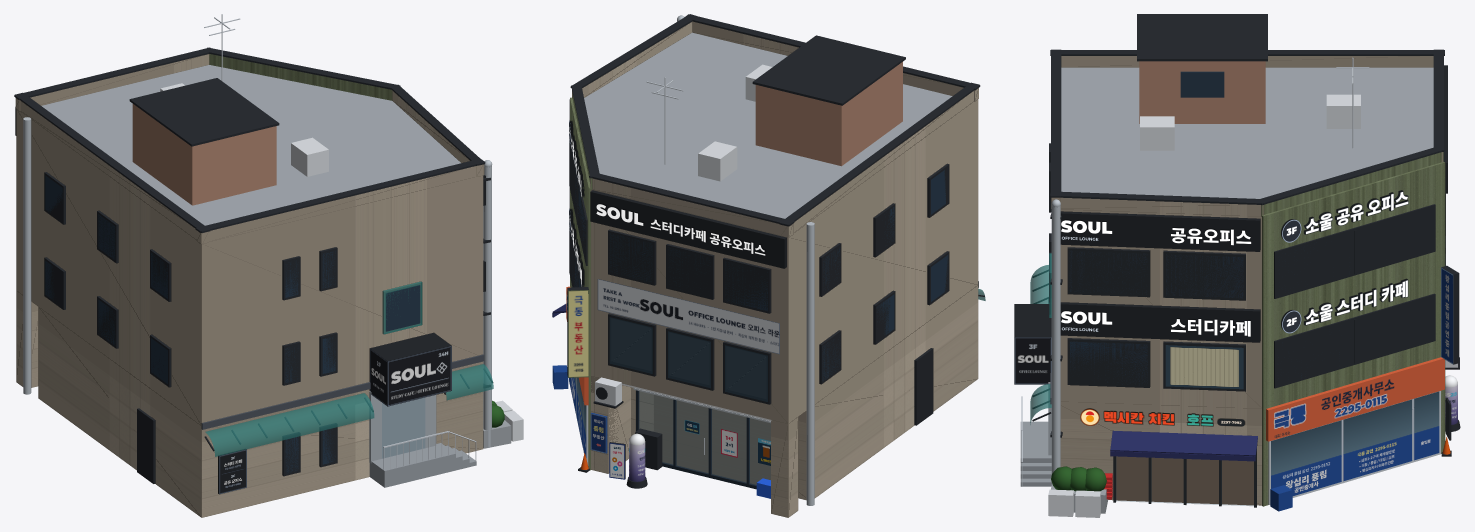
The model's file is place_gs25극미점.glb.
3 views of the same model, side by side, from view 1: azimuth 30°, elevation 25°; view 2: azimuth 150°, elevation 25°; view 3: azimuth 270°, elevation 25° (orthographic). The views are drawn at different scales.
Visible parts, largest first — view 1: MainMass_2F_3F_BeigeStone, MainMass_1F_RecessedNorthPorch, Roof_Stair_Penthouse, Merged_Roof_Parapet_Beige, Merged_Roof_Coping, Merged_Roof_PentTrim, South_TealPoly_Canopy (×2), South_SOUL_3DProjectingBoxSign, Merged_South_SlitFrames, Merged_West_Frames, Merged_South_BrushedSteel, Merged_South_SlitGlass (+12 smaller); view 2: MainMass_2F_3F_BeigeStone, MainMass_1F_RecessedNorthPorch, Roof_Stair_Penthouse, Merged_North_WinFrames, Merged_Roof_Parapet_Beige, GS25_Storefront_Local, Facade_North_Upper2F3F, Merged_Roof_Coping, Merged_Roof_PentTrim, North_2F_SoulBanner, Merged_North_3F_SignBand, Merged_West_Frames (+17 smaller); view 3: MainMass_2F_3F_BeigeStone, NE_OliveMoss_FacadeCladding, Merged_NE_UpperFrames, Merged_East_WinFrames, Merged_East_SoulBands, Facade_NE_Geukdong_Olive, Facade_East_MexicanChicken, MainMass_1F_RecessedNorthPorch, Merged_Roof_Coping, Roof_Stair_Penthouse, Merged_Roof_PentTrim, NE_1F_Geukdong_OrangeFascia (+21 smaller).
Boxes of the visible parts, left/top/right/bottom form: MainMass_2F_3F_BeigeStone: left=16, top=65, right=483, bottom=425; MainMass_1F_RecessedNorthPorch: left=38, top=307, right=483, bottom=517; Roof_Stair_Penthouse: left=132, top=104, right=276, bottom=205; Merged_Roof_Parapet_Beige: left=15, top=54, right=484, bottom=243; Merged_Roof_Coping: left=14, top=47, right=485, bottom=232; Merged_Roof_PentTrim: left=129, top=78, right=279, bottom=146; South_TealPoly_Canopy (×2): left=205, top=364, right=493, bottom=456; South_SOUL_3DProjectingBoxSign: left=369, top=332, right=451, bottom=406; Merged_South_SlitFrames: left=282, top=247, right=337, bottom=476; Merged_West_Frames: left=44, top=172, right=171, bottom=387; Merged_South_BrushedSteel: left=369, top=391, right=436, bottom=463; Merged_South_SlitGlass: left=285, top=251, right=420, bottom=473; MainMass_2F_3F_BeigeStone: left=584, top=32, right=978, bottom=423; MainMass_1F_RecessedNorthPorch: left=591, top=285, right=978, bottom=500; Roof_Stair_Penthouse: left=755, top=62, right=902, bottom=166; Merged_North_WinFrames: left=608, top=229, right=771, bottom=404; Merged_Roof_Parapet_Beige: left=572, top=21, right=978, bottom=237; GS25_Storefront_Local: left=639, top=391, right=770, bottom=485; Facade_North_Upper2F3F: left=598, top=203, right=767, bottom=401; Merged_Roof_Coping: left=570, top=14, right=980, bottom=226; Merged_Roof_PentTrim: left=752, top=35, right=905, bottom=105; North_2F_SoulBanner: left=597, top=279, right=779, bottom=354; Merged_North_3F_SignBand: left=590, top=190, right=786, bottom=268; Merged_West_Frames: left=819, top=164, right=949, bottom=384; MainMass_2F_3F_BeigeStone: left=1060, top=67, right=1433, bottom=408; NE_OliveMoss_FacadeCladding: left=1262, top=161, right=1445, bottom=506; Merged_NE_UpperFrames: left=1274, top=204, right=1435, bottom=388; Merged_East_WinFrames: left=1067, top=247, right=1245, bottom=391; Merged_East_SoulBands: left=1060, top=211, right=1260, bottom=342; Facade_NE_Geukdong_Olive: left=1271, top=190, right=1439, bottom=495; Facade_East_MexicanChicken: left=1061, top=219, right=1253, bottom=505; MainMass_1F_RecessedNorthPorch: left=1060, top=401, right=1261, bottom=505; Merged_Roof_Coping: left=1050, top=49, right=1444, bottom=205; Roof_Stair_Penthouse: left=1139, top=61, right=1265, bottom=123; Merged_Roof_PentTrim: left=1137, top=14, right=1267, bottom=61; NE_1F_Geukdong_OrangeFascia: left=1266, top=357, right=1444, bottom=441.
Size of the model in its own units: 13.46 by 13.92 by 14.83.
70 materials, 37 textured.
